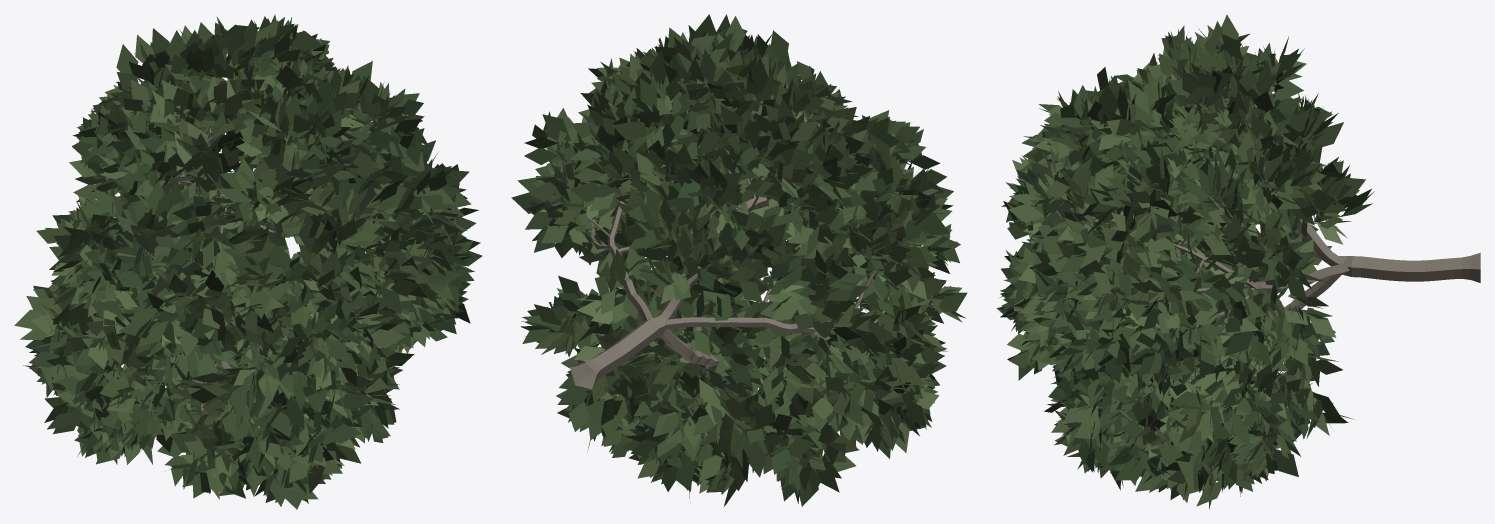
File: tree_mid_02.obj
The picture shows the model from 3 angles, left to right: view 1: azimuth 30°, elevation 25°; view 2: azimuth 150°, elevation 25°; view 3: azimuth 270°, elevation 25°; orthographic projection.
Parts seen in each view (by area): view 1: tree_mid_02; view 2: tree_mid_02; view 3: tree_mid_02.
Part boxes in pixels (left/top/right/bottom): tree_mid_02: left=14, top=14, right=482, bottom=509; tree_mid_02: left=511, top=14, right=967, bottom=506; tree_mid_02: left=996, top=15, right=1480, bottom=509.
Size of the model in its own units: 1.01 by 1.04 by 1.01.
1 material, 1 textured.
